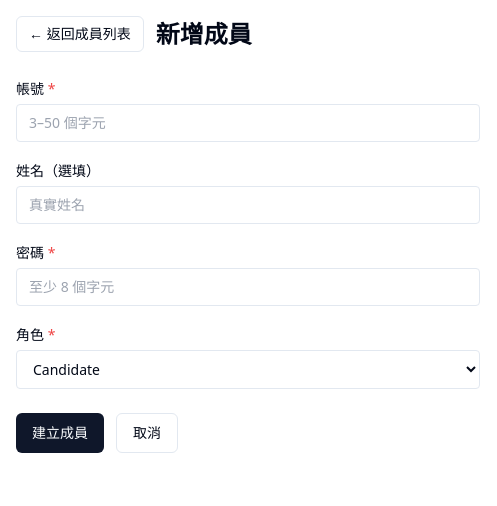
Test case: MemberCreatePage › shows "密碼至少需要 8 個字元" when password is fewer than 8 characters
The image size is (497, 506).
Type "alice123" into the field labelled "帳號 *". click: x=248, y=123
box: [16, 104, 480, 142]
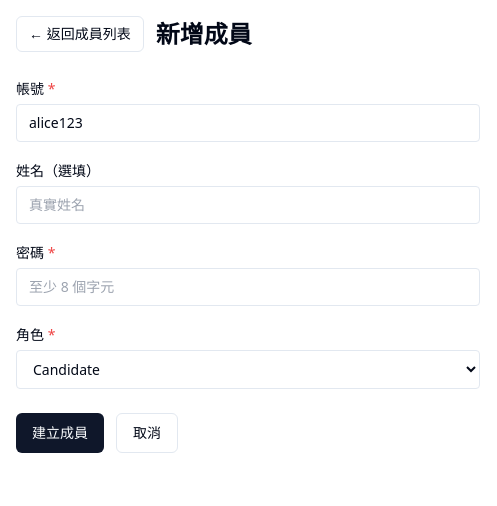
Type "1234567" into the password field labelled "密碼 *". click: x=248, y=287
box: [16, 268, 480, 306]
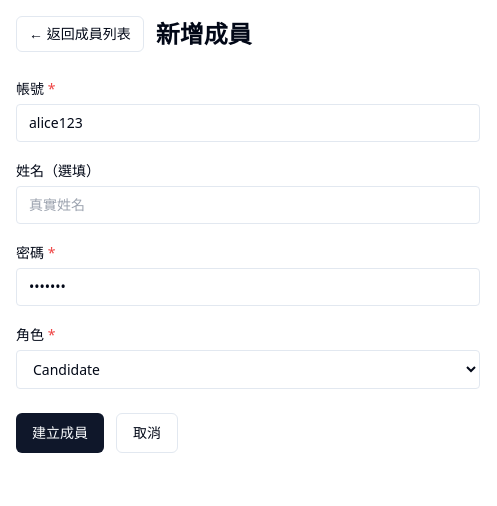
Click the button "建立成員". click: x=60, y=433
box: [16, 413, 104, 453]
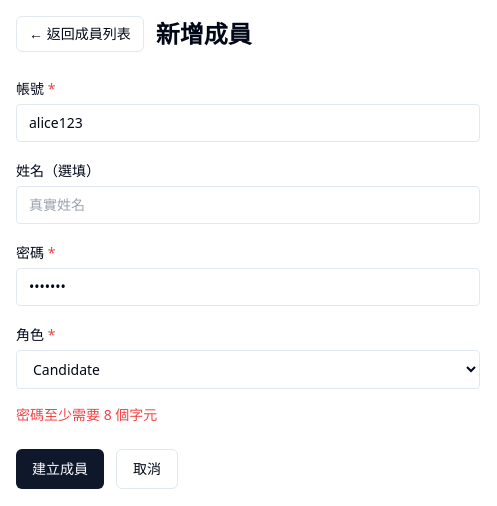
Now the text "密碼至少需要 8 個字元" is shown, box [16, 405, 157, 424]
